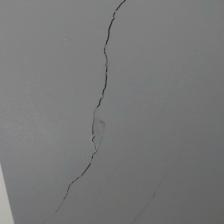Medium: (61, 9, 130, 208)
